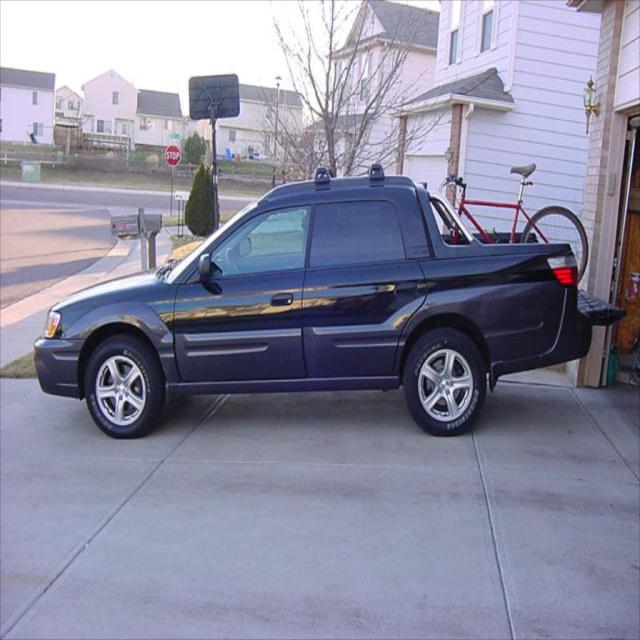car: (26, 171, 607, 451)
